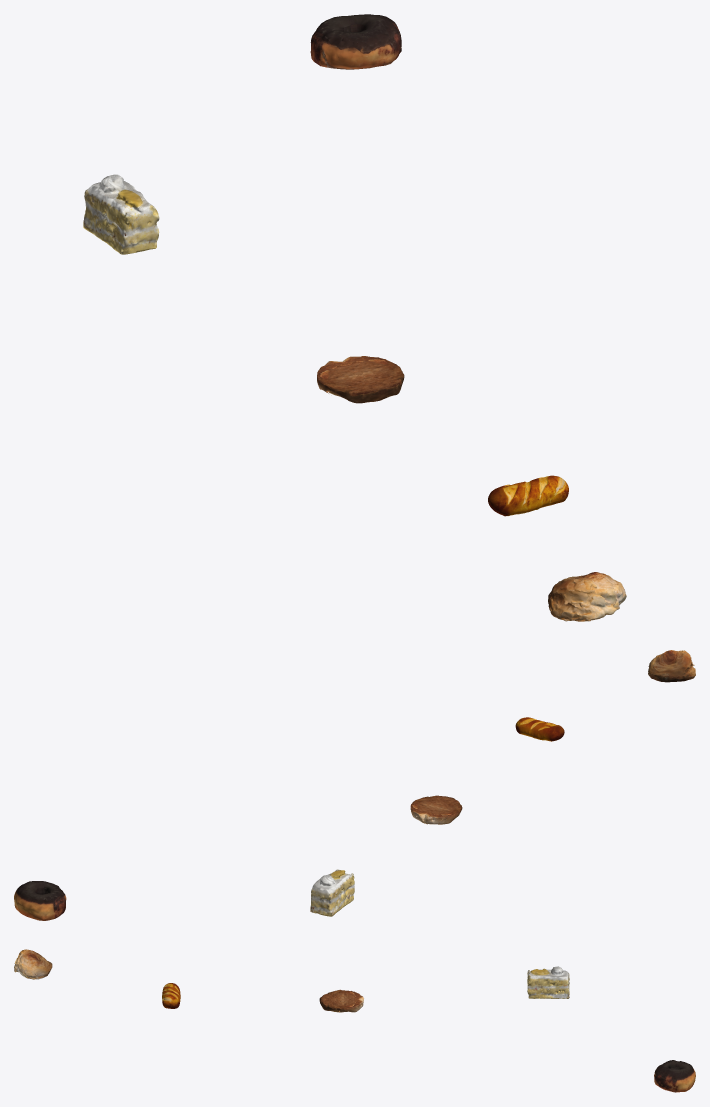
The model's file is модельки.glb.
The picture shows the model from 3 angles, top to bottom: view 1: azimuth 30°, elevation 25°; view 2: azimuth 150°, elevation 25°; view 3: azimuth 270°, elevation 25°; orthographic projection. The views are drawn at different scales.
Visible parts, largest first — view 1: 3DModel_Retopo, 3DModel_Retopo.001, 3DModel_LowPoly, 3DModel_LowPoly.001, tmpouknt4ut.ply; view 2: 3DModel_Retopo.001, 3DModel_Retopo, 3DModel_LowPoly.001, 3DModel_LowPoly, tmpouknt4ut.ply; view 3: 3DModel_Retopo, 3DModel_Retopo.001, 3DModel_LowPoly.001, 3DModel_LowPoly, tmpouknt4ut.ply.
Boxes of the visible parts, <box> form: 3DModel_Retopo: <box>83,174,159,254</box>; 3DModel_Retopo.001: <box>310,14,401,69</box>; 3DModel_LowPoly: <box>317,356,404,403</box>; 3DModel_LowPoly.001: <box>548,572,626,621</box>; tmpouknt4ut.ply: <box>488,475,568,516</box>; 3DModel_Retopo.001: <box>14,881,66,920</box>; 3DModel_Retopo: <box>310,869,354,916</box>; 3DModel_LowPoly.001: <box>648,650,695,682</box>; 3DModel_LowPoly: <box>410,795,462,824</box>; tmpouknt4ut.ply: <box>515,717,564,741</box>; 3DModel_Retopo: <box>527,966,569,998</box>; 3DModel_Retopo.001: <box>654,1060,695,1092</box>; 3DModel_LowPoly.001: <box>14,949,52,979</box>; 3DModel_LowPoly: <box>319,989,363,1012</box>; tmpouknt4ut.ply: <box>162,983,180,1008</box>.
Size of the model in its own units: 7.16 by 0.9205 by 17.24.
Materials: 5 (5 with a texture image).
